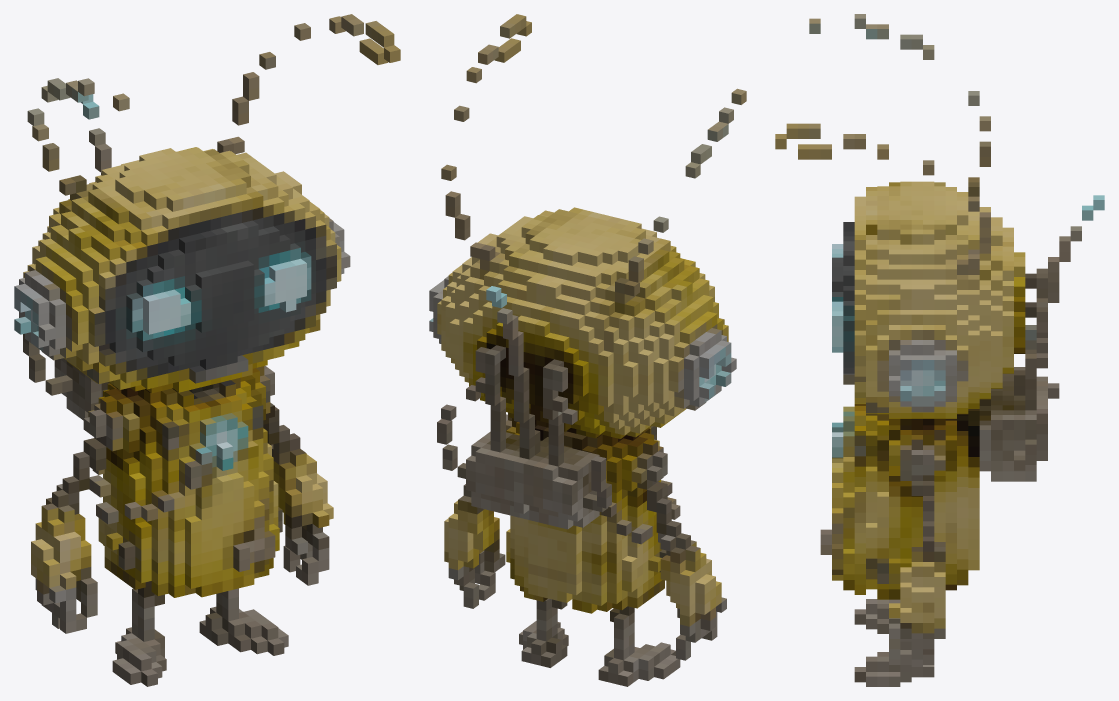
Rendered from pixellabs-glb-3347.voxel.glb.
3 views of the same model, side by side, from view 1: azimuth 30°, elevation 25°; view 2: azimuth 150°, elevation 25°; view 3: azimuth 270°, elevation 25° (orthographic). The views are drawn at different scales.
Visible parts, largest first — view 1: Voxelized; view 2: Voxelized; view 3: Voxelized.
Boxes of the visible parts, <box> form: Voxelized: <box>14,14,400,686</box>; Voxelized: <box>429,14,746,686</box>; Voxelized: <box>775,14,1104,686</box>.
Bounding box in the file's own units: 0.513 × 1.01 × 0.513.
